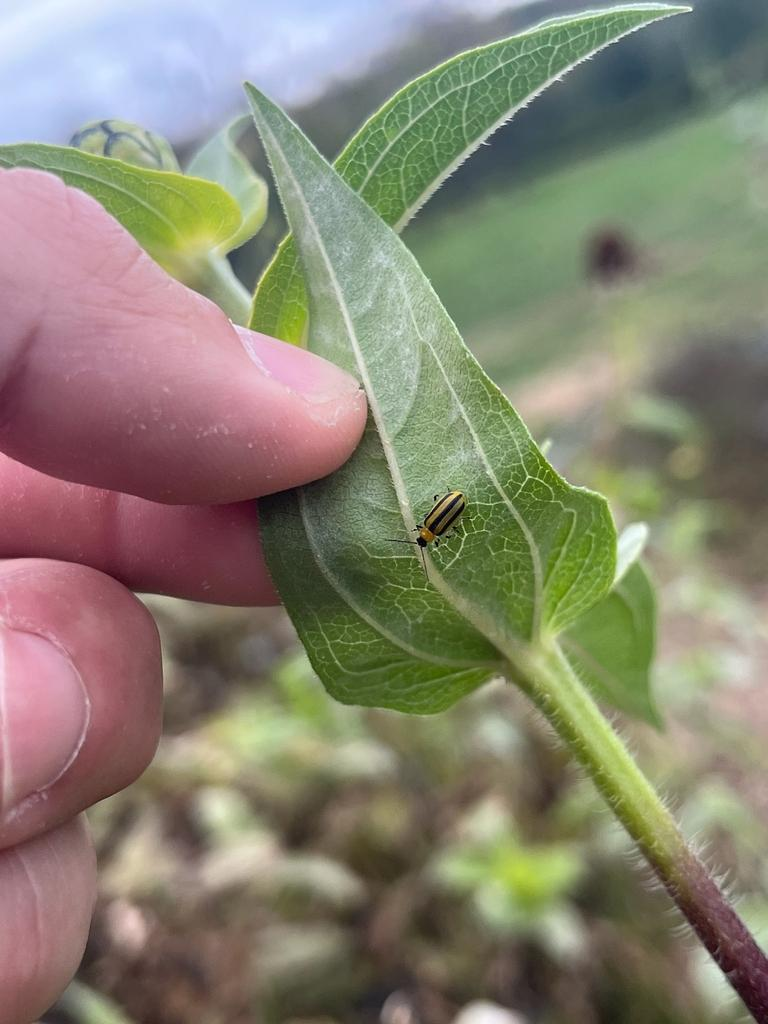potato_beetle: (390, 466, 487, 560)
